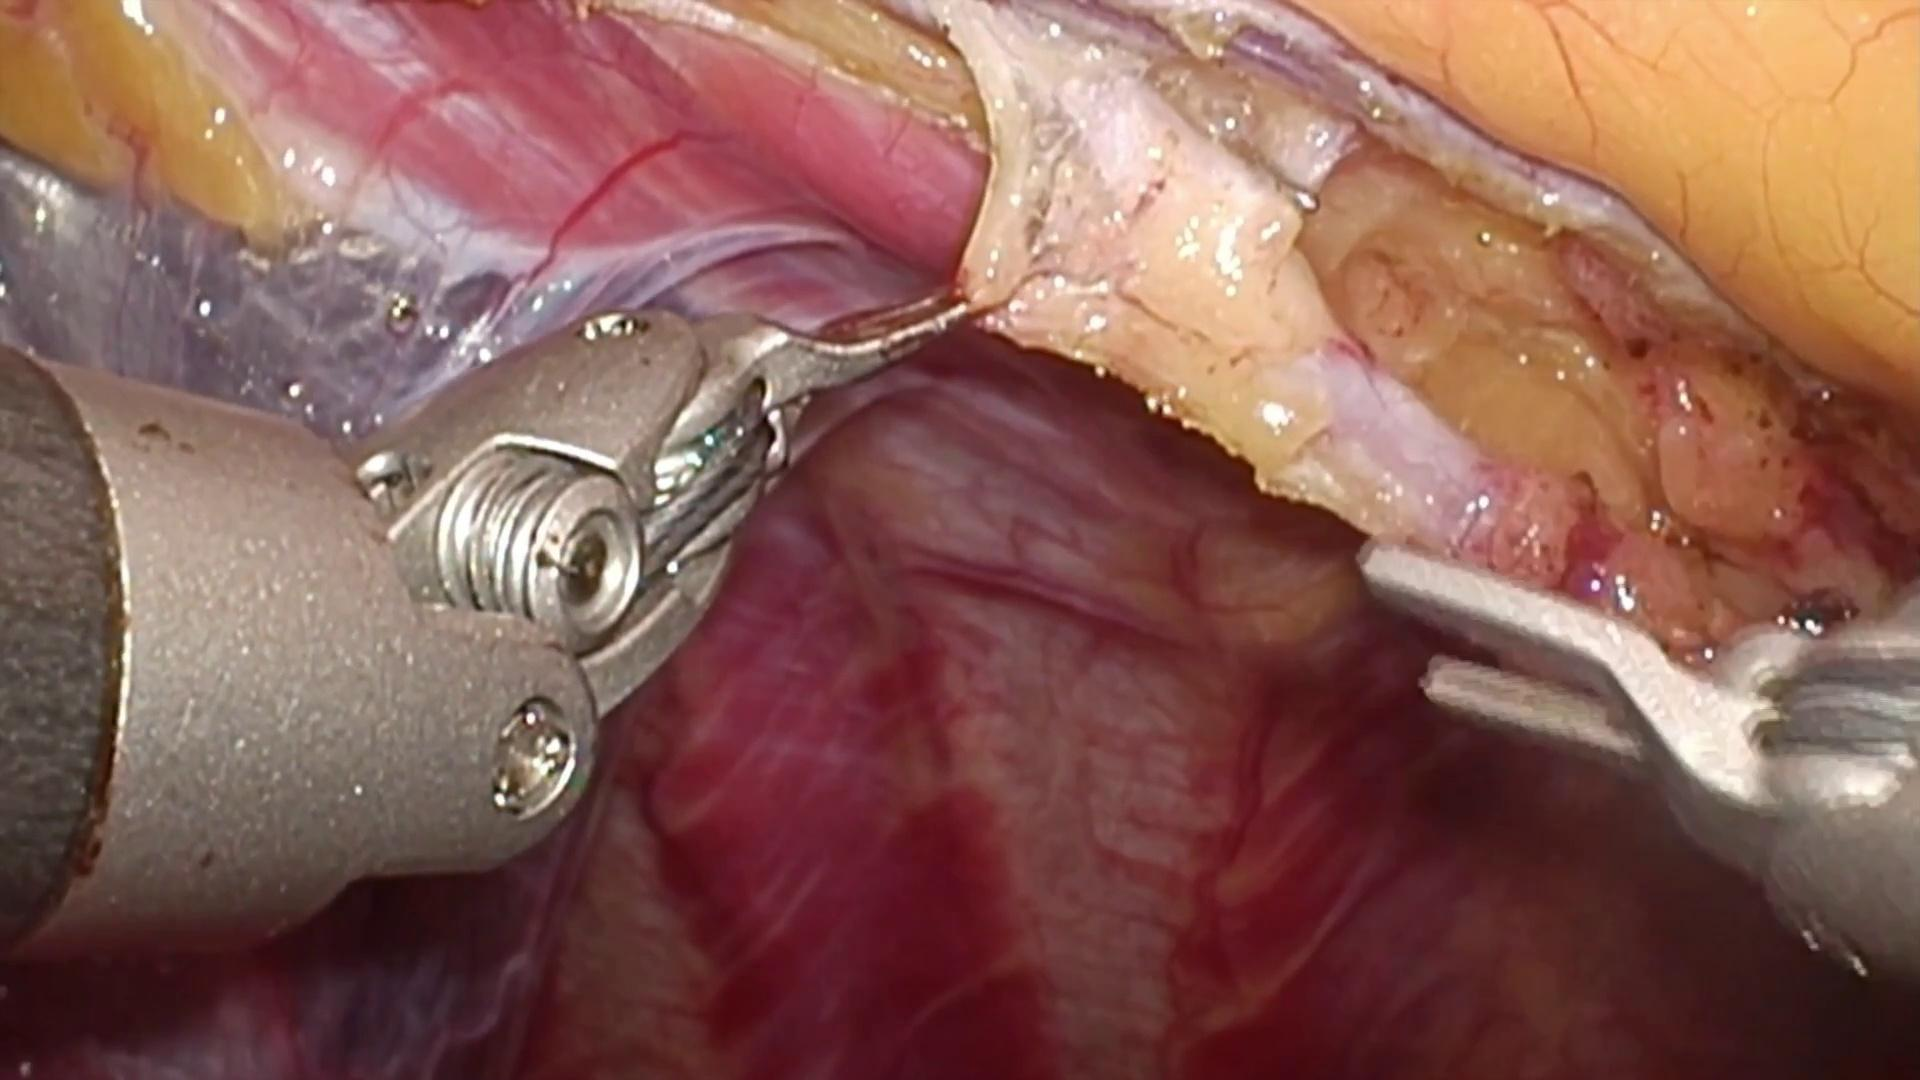Debakey: (705, 297, 988, 442)
clipper: (1350, 529, 1920, 988)
